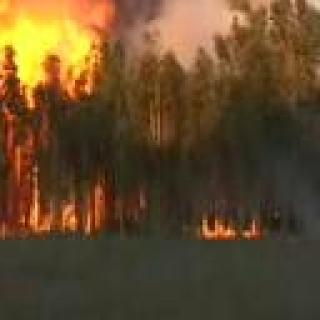fire: (0, 0, 95, 230), (204, 215, 264, 244)
